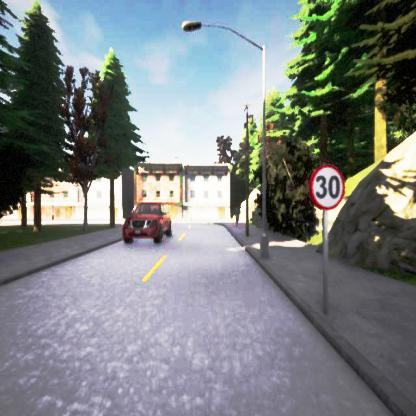vehicle: (122, 203, 172, 243)
